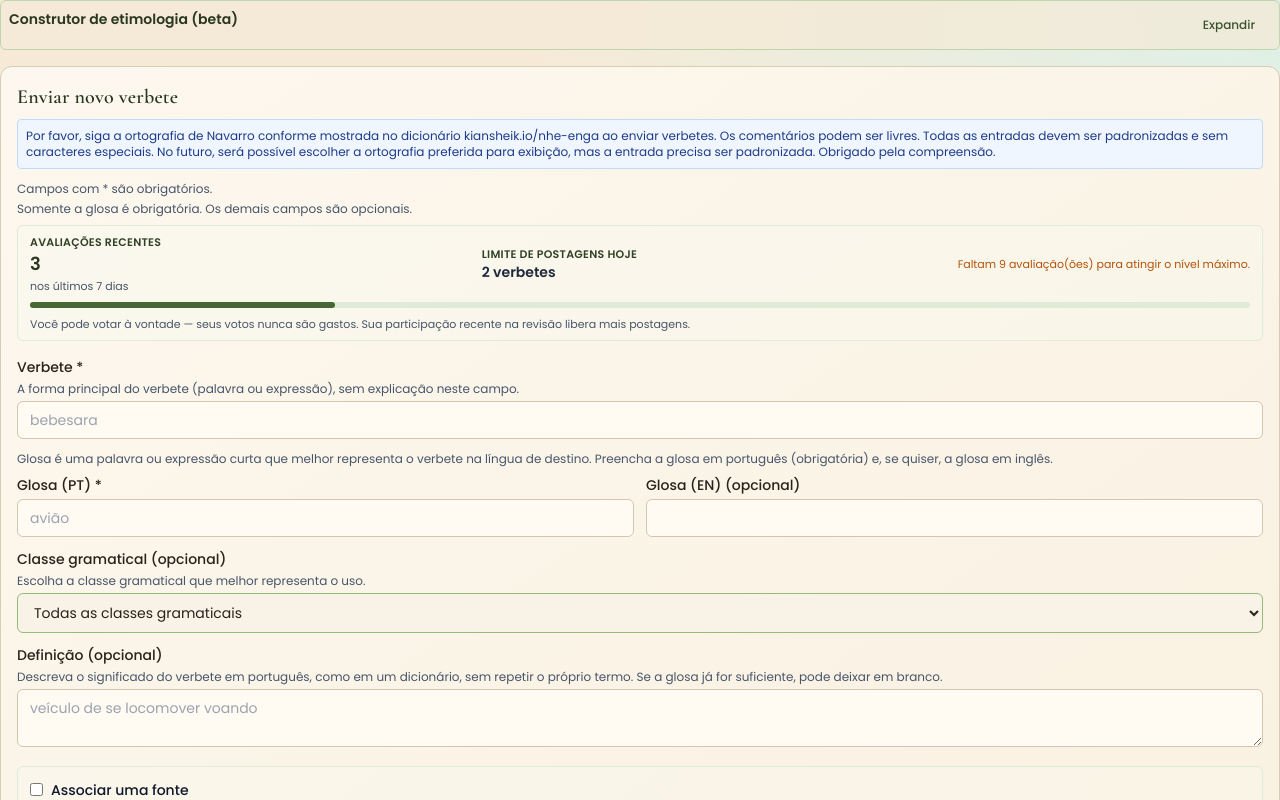
it: SubmitPage › keeps duplicate warning visible when duplicate headword is an exact match
Type "mba'eoby" into the field labelled "Verbete *" at (640, 420), box x1=17 y1=401 x2=1263 y2=439
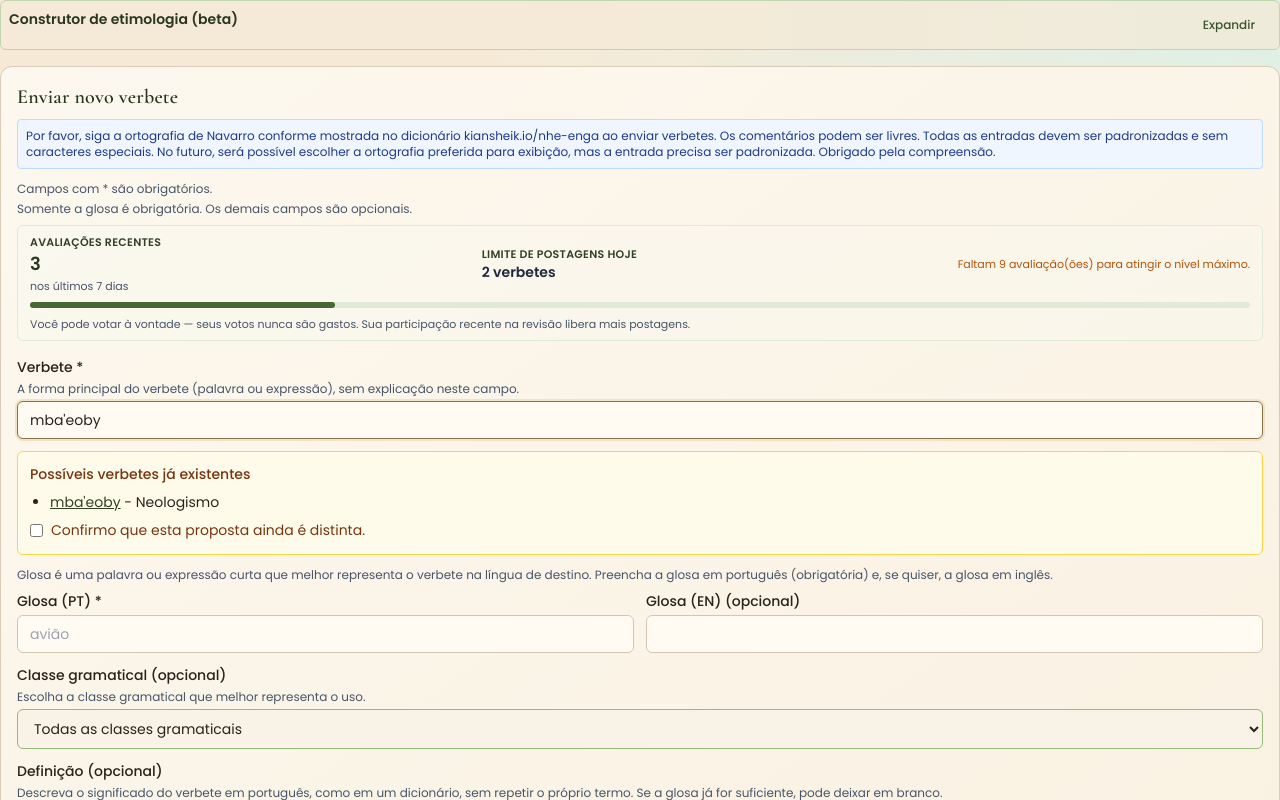
Expected: the element with test id "duplicate-warning" is shown, x1=17 y1=451 x2=1263 y2=554
Expected: the link "mba'eoby" is shown, x1=50 y1=492 x2=121 y2=512
